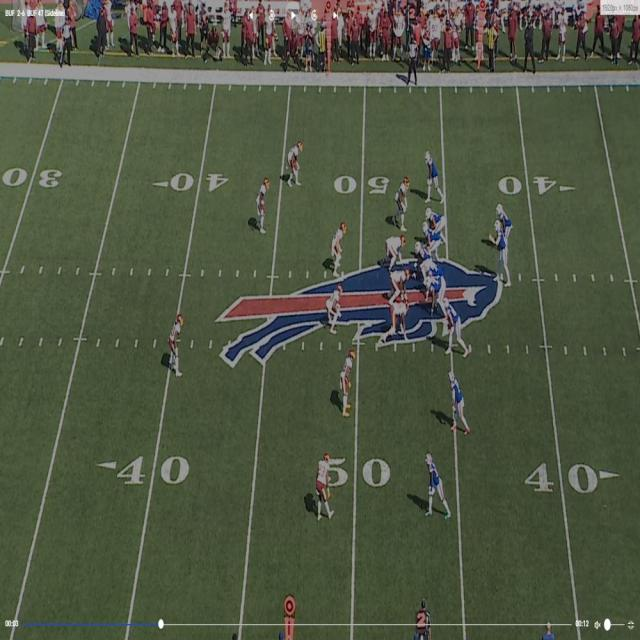center: (411, 248, 429, 282)
db: (314, 452, 334, 520), (170, 318, 185, 378), (342, 352, 354, 414), (288, 141, 305, 182), (256, 180, 268, 234)
lb: (328, 282, 343, 332), (330, 225, 344, 276)
qb: (495, 228, 510, 285)
skill: (425, 450, 445, 513), (449, 372, 465, 436), (447, 302, 466, 352), (424, 149, 441, 201), (498, 204, 514, 238)
